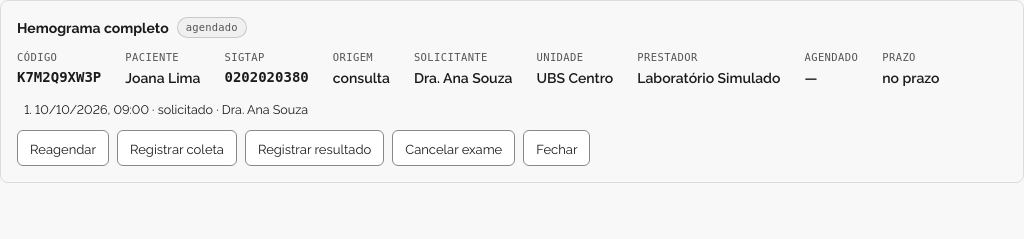
Scenario: ExamOrderDetail › registrar coleta pede confirmação
Click the button "Registrar coleta".
click(177, 148)  # box [117,130,237,166]
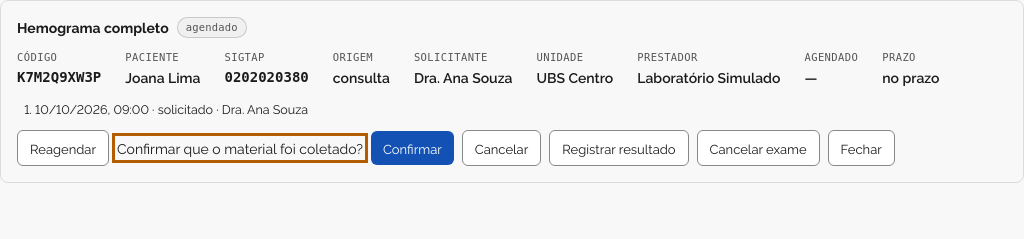
Click the button "Confirmar".
click(412, 148)  # box [371,131,454,165]
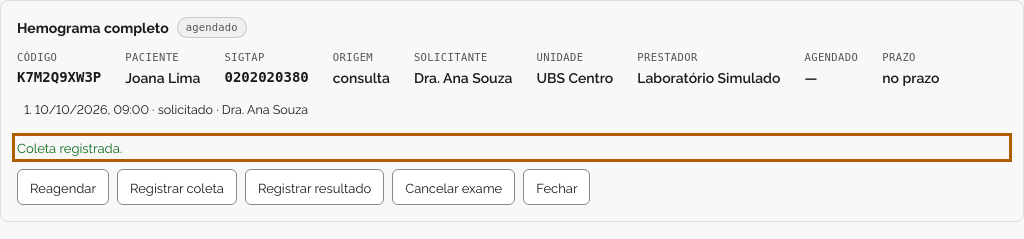
Check: the text "Coleta registrada." is shown, box [17,138,122,156]
